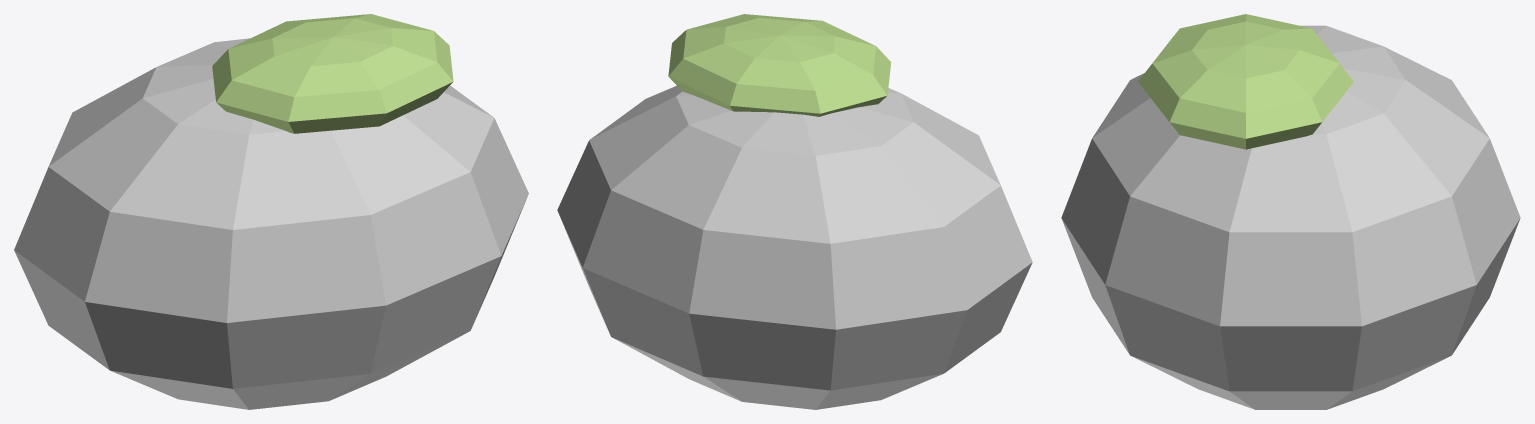
Rendered from SM_Env_Rock_01.glb.
The picture shows the model from 3 angles, left to right: view 1: azimuth 30°, elevation 25°; view 2: azimuth 150°, elevation 25°; view 3: azimuth 270°, elevation 25°; orthographic projection. The views are drawn at different scales.
Visible parts, largest first — view 1: SM_Rock_Body, SM_Rock_Moss; view 2: SM_Rock_Body, SM_Rock_Moss; view 3: SM_Rock_Body, SM_Rock_Moss.
Part boxes in pixels (x1,y1,x2,y2): SM_Rock_Body: [14, 38, 528, 409]; SM_Rock_Moss: [212, 14, 453, 133]; SM_Rock_Body: [557, 86, 1032, 409]; SM_Rock_Moss: [668, 14, 891, 116]; SM_Rock_Body: [1061, 25, 1520, 409]; SM_Rock_Moss: [1138, 14, 1353, 149].
Bounding box in the file's own units: 1.14 × 0.86 × 1.02.
